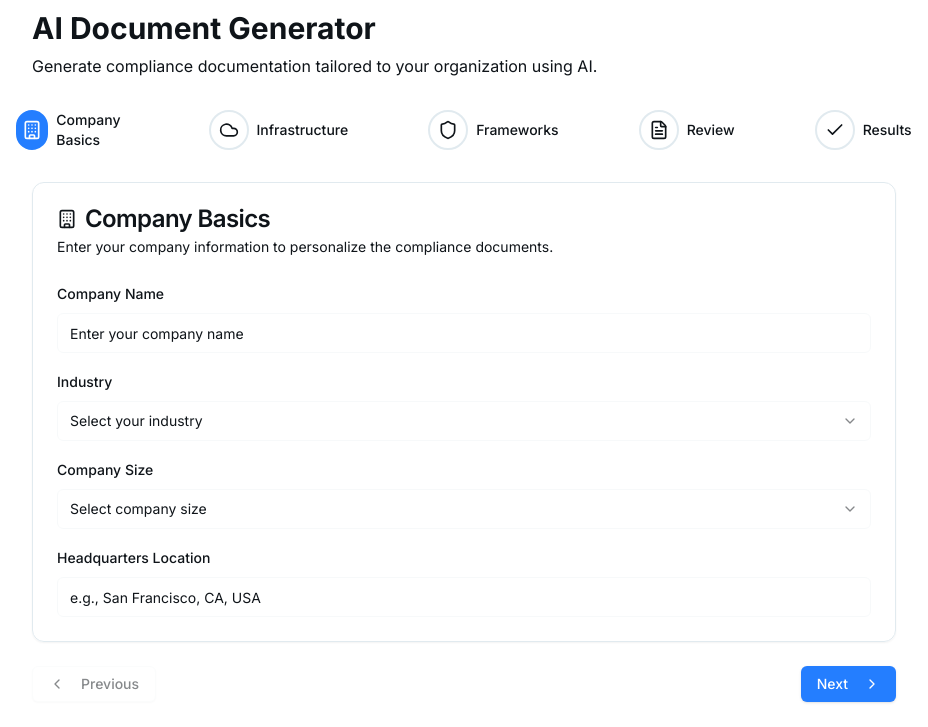
AI Document Generator Page › Step 1: Company Basics › should proceed to step 2 with valid data
# Fill in all required fields
Type "Acme Corporation" into the field with test id "input-company-name".
click(464, 333); type("Acme Corporation")  # box left=57, top=313, right=871, bottom=353
Type "San Francisco, CA" into the field with test id "input-headquarters".
click(464, 597); type("San Francisco, CA")  # box left=57, top=577, right=871, bottom=617
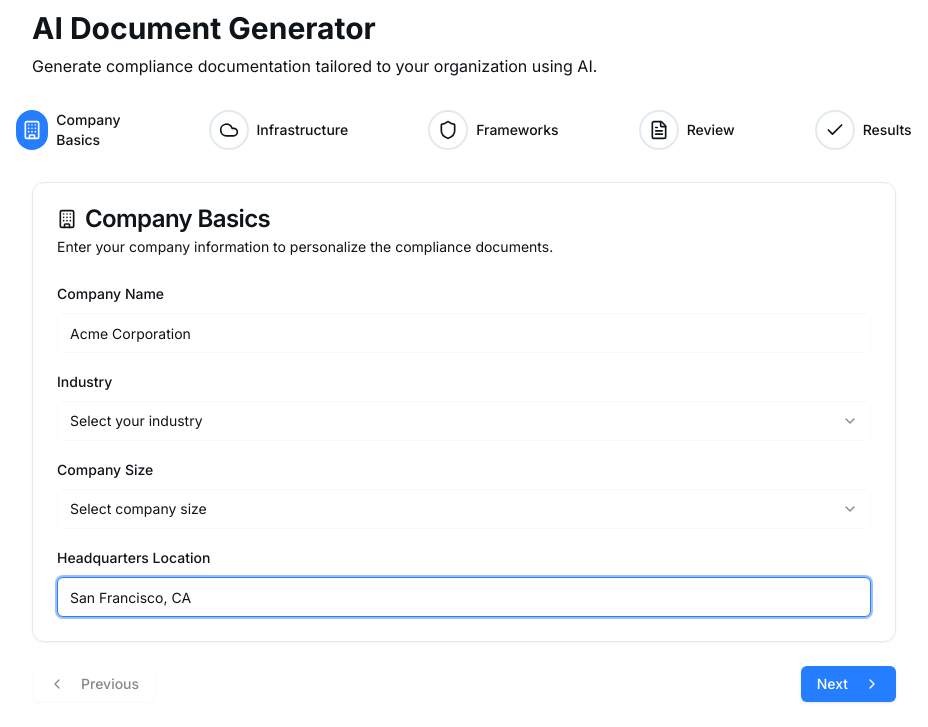
Click the dropdown with test id "select-industry".
click(136, 420)  # box left=57, top=401, right=871, bottom=441
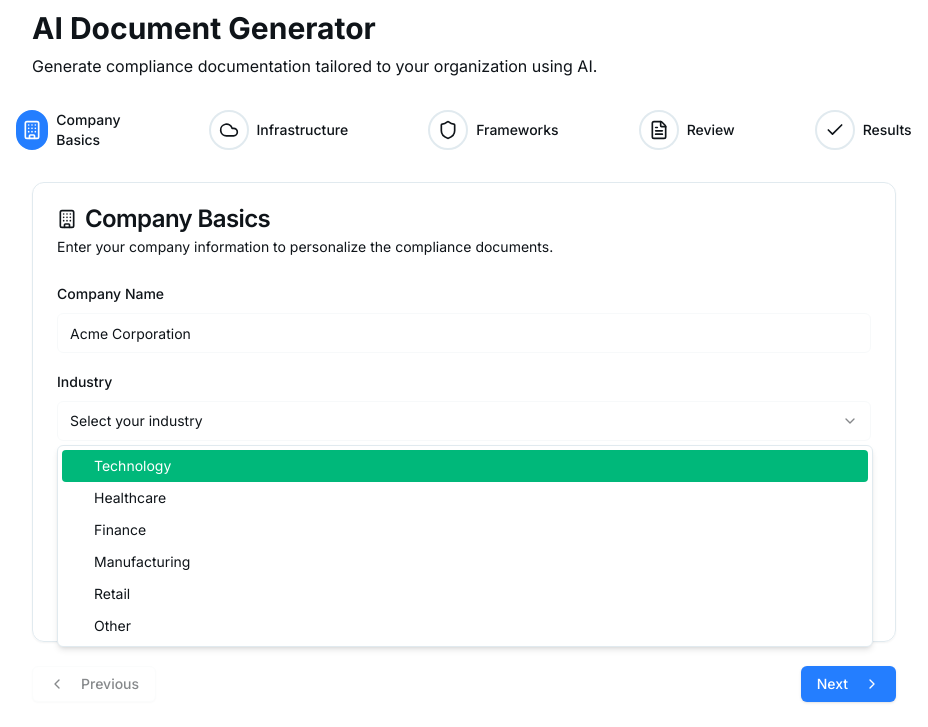
Click the option with test id "option-industry-technology".
click(133, 466)  # box left=62, top=450, right=868, bottom=482
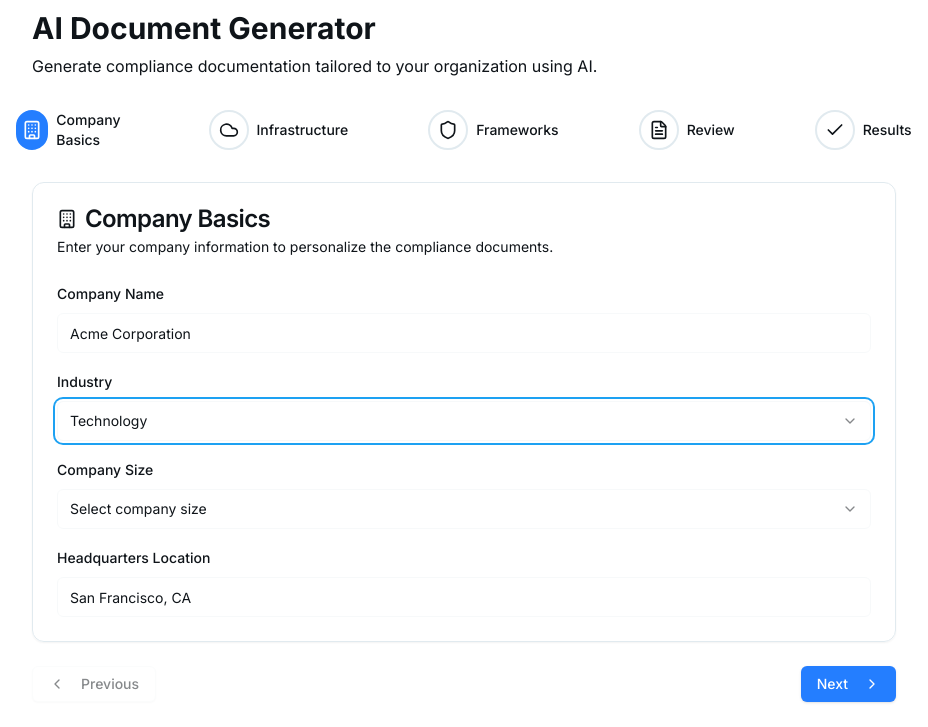
Click the dropdown with test id "select-company-size".
click(138, 508)  # box left=57, top=489, right=871, bottom=529
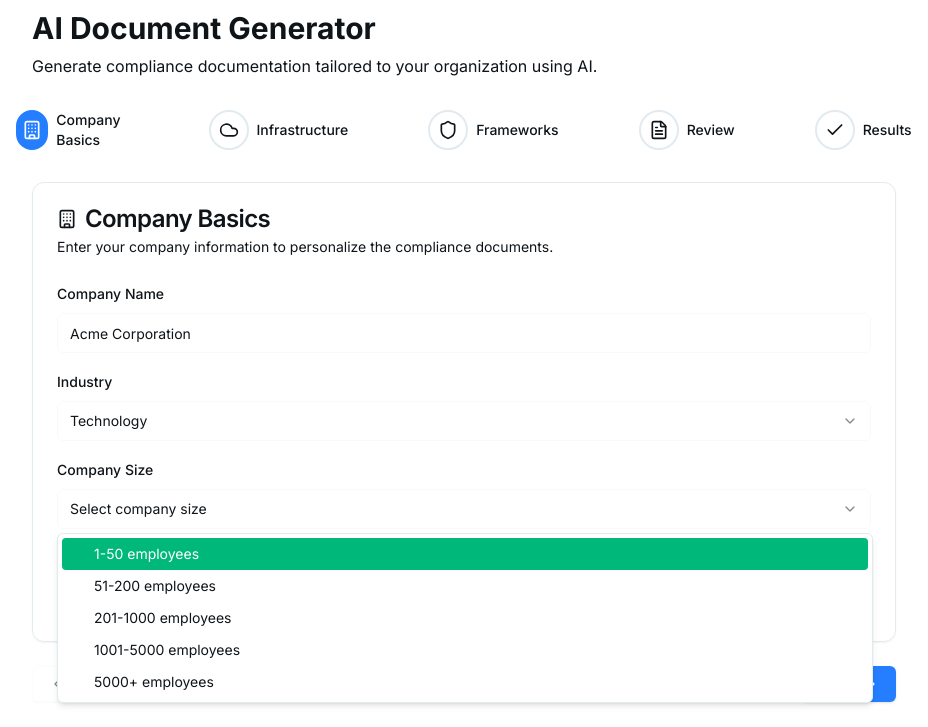
Click the option with test id "option-size-51-200".
click(155, 586)  # box left=94, top=577, right=216, bottom=594
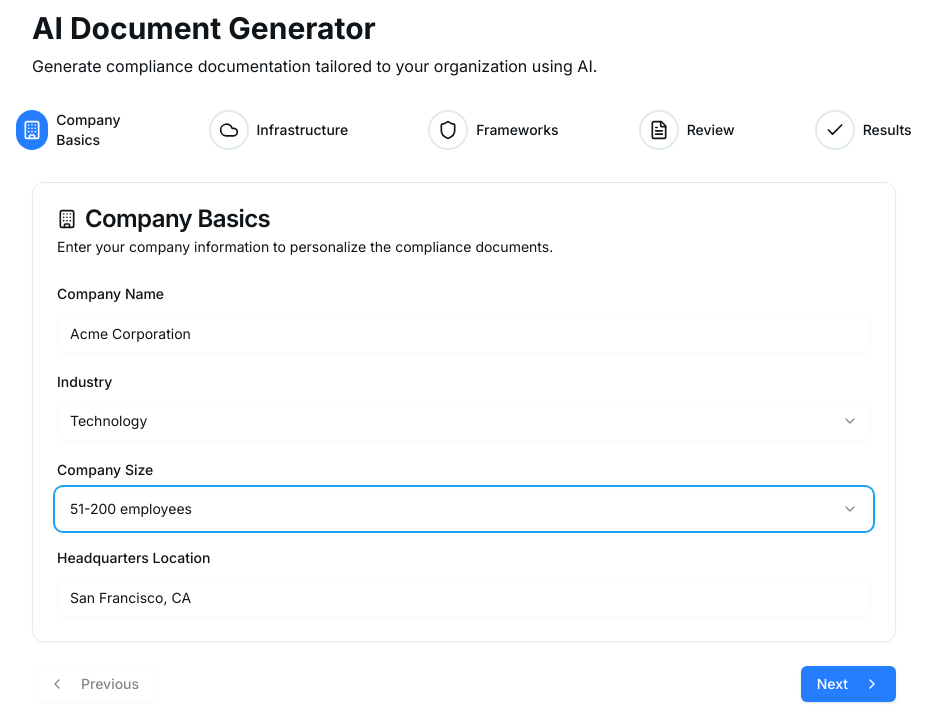
Click the button with test id "button-next".
click(848, 684)  # box left=801, top=666, right=896, bottom=702
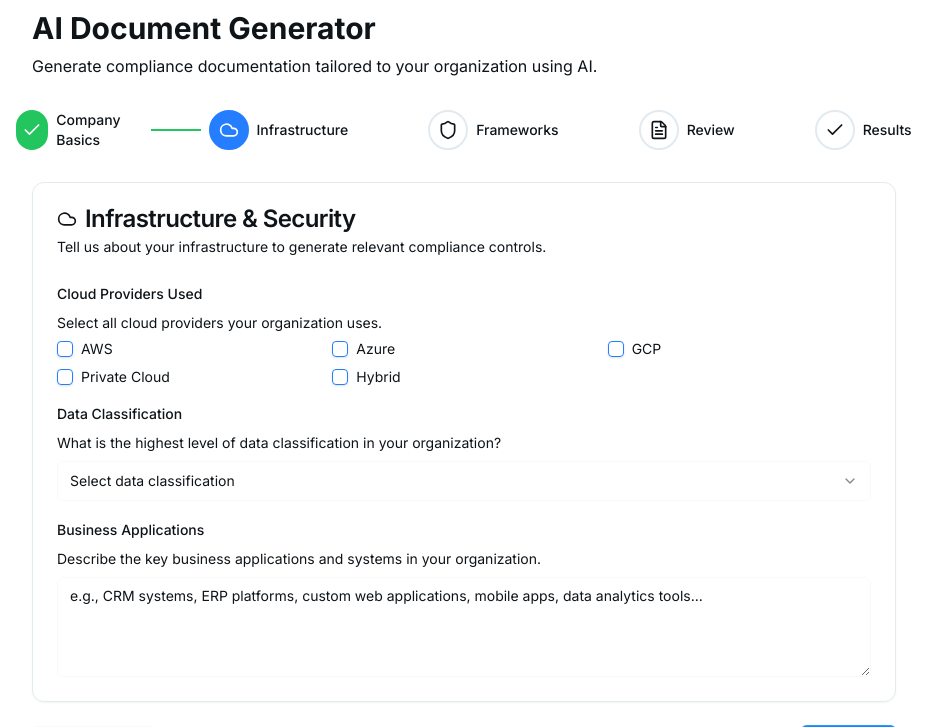
Now the text "Infrastructure & Security" is shown, box left=57, top=204, right=356, bottom=233
